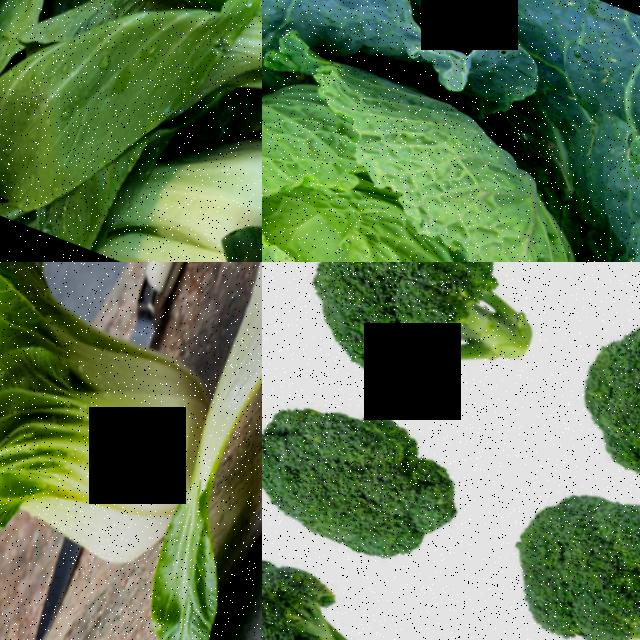bok choy: (0, 262, 261, 640), (63, 0, 262, 153)
broccoli: (262, 342, 511, 603), (267, 262, 604, 447), (464, 455, 640, 640), (532, 263, 640, 551), (262, 534, 454, 640)
cabbage: (262, 0, 640, 262)
